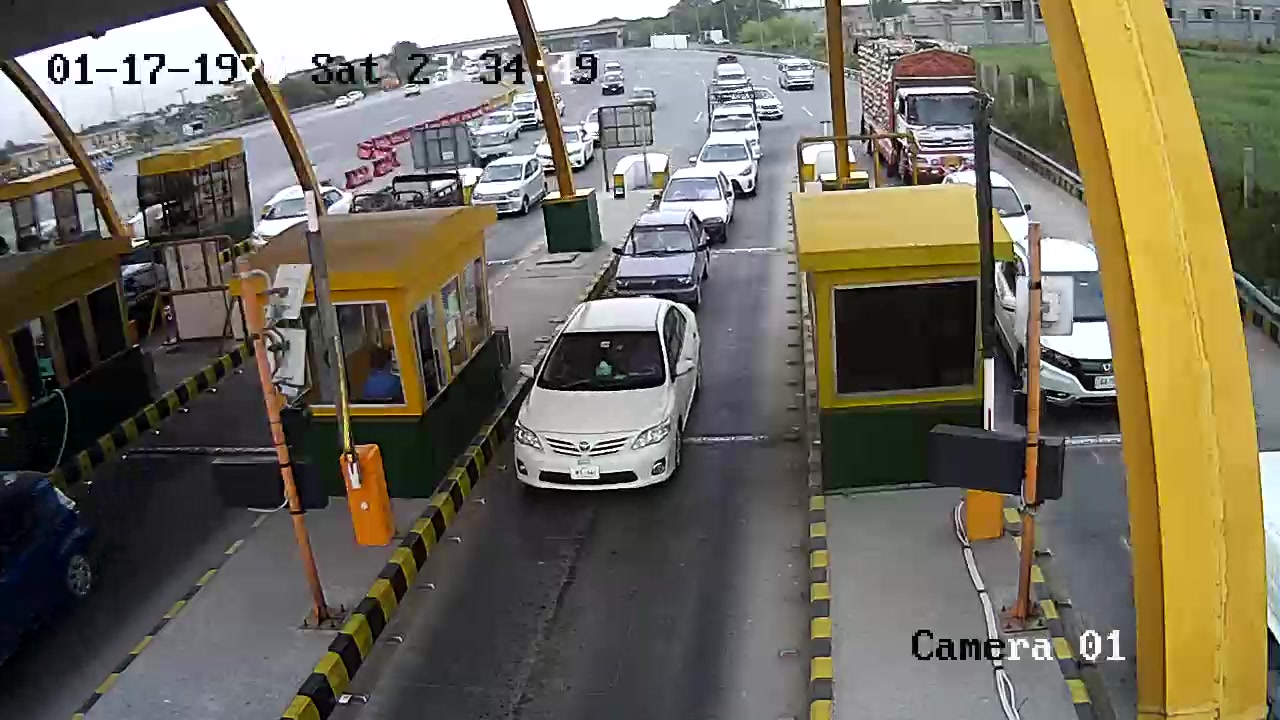F1: (510, 291, 713, 501)
